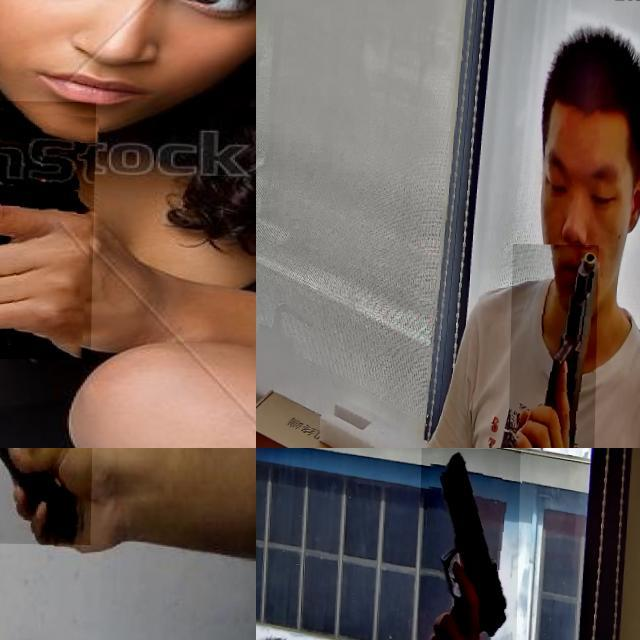-: (0, 448, 101, 566)
gun-knife-thesis - v11 Yolov5 augmented: (0, 95, 207, 358), (418, 448, 521, 640), (509, 243, 600, 448)
